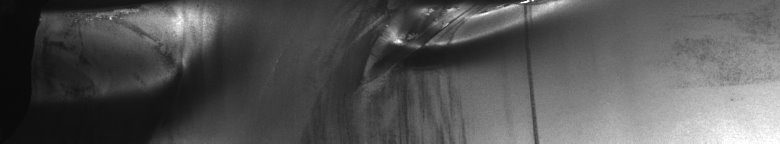ke: (359, 4, 567, 136)
